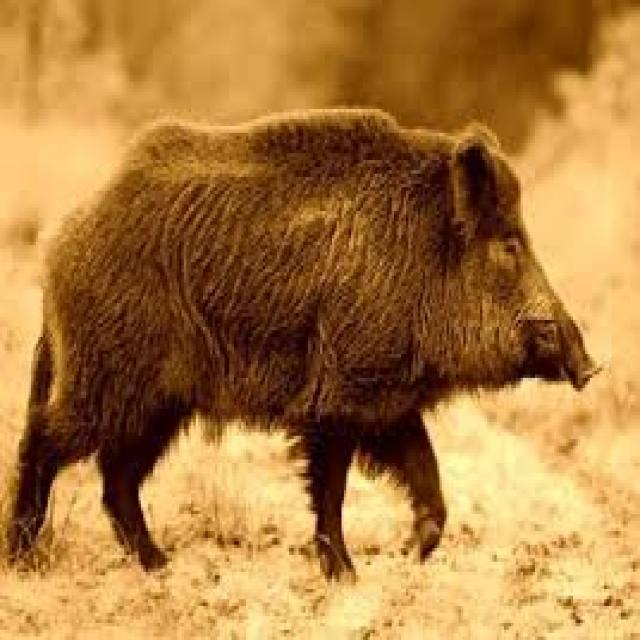Boar: (0, 106, 595, 558)
